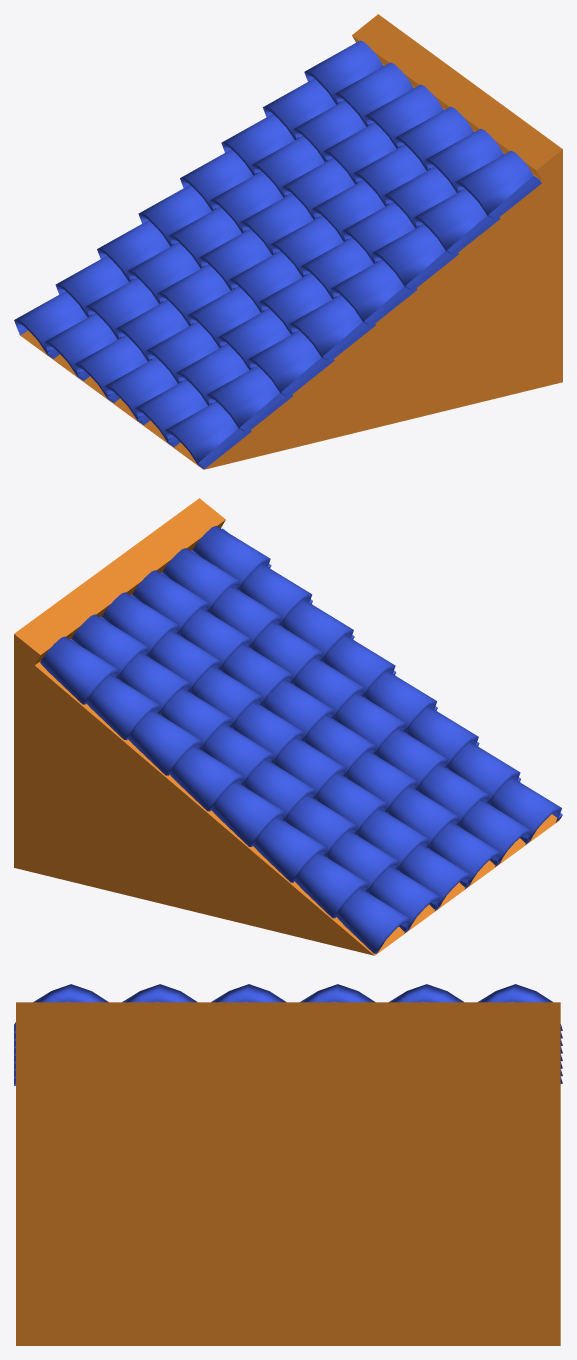
The model's file is TejadoDe2.fbx.
3 views of the same model, one above another, from view 1: azimuth 30°, elevation 25°; view 2: azimuth 150°, elevation 25°; view 3: azimuth 270°, elevation 25° (orthographic). The views are drawn at different scales.
Parts seen in each view (by area): view 1: Tejado.002, Cube.001; view 2: Tejado.002, Cube.001; view 3: Cube.001, Tejado.002.
Part boxes in pixels (x1=…): Tejado.002: x1=14, y1=40, x2=541, y2=469; Cube.001: x1=19, y1=14, x2=562, y2=469; Tejado.002: x1=40, y1=526, x2=562, y2=953; Cube.001: x1=14, y1=498, x2=559, y2=955; Cube.001: x1=16, y1=1002, x2=560, y2=1345; Tejado.002: x1=14, y1=984, x2=562, y2=1085.
Size of the model in its own units: 446 by 267 by 386.
